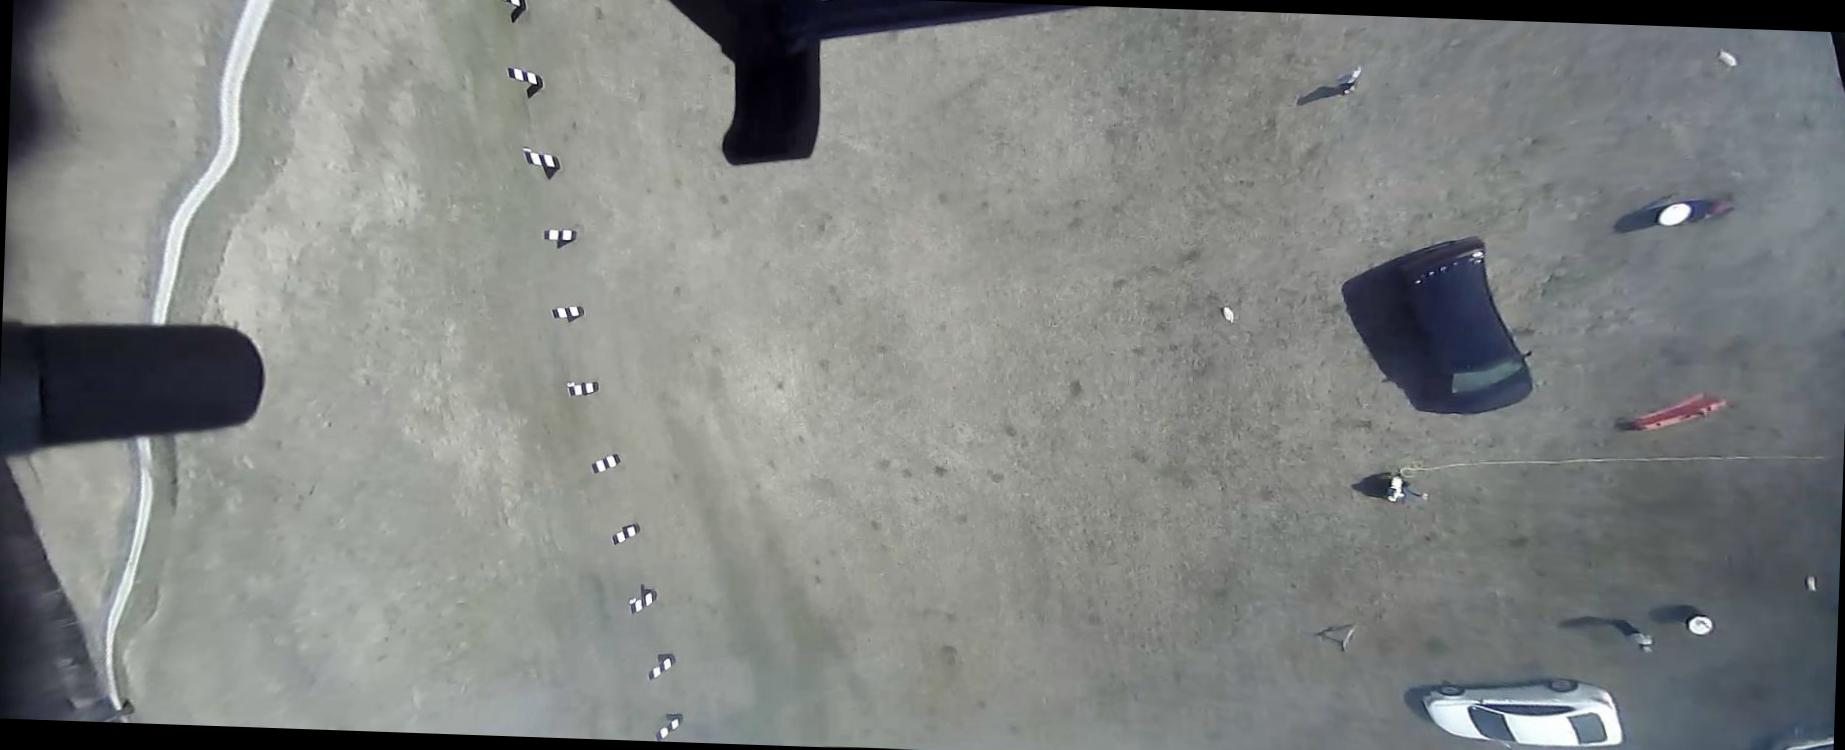vehicle: (1386, 228, 1540, 418), (1418, 670, 1631, 749), (1759, 723, 1833, 749)
